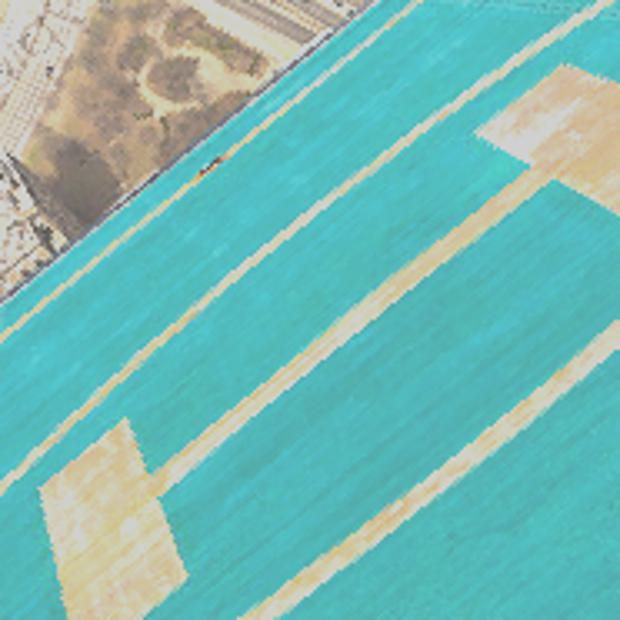Apron: (2, 1, 620, 620)
